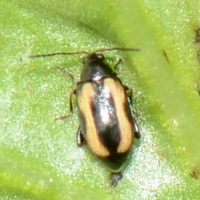insect: (29, 47, 140, 185)
